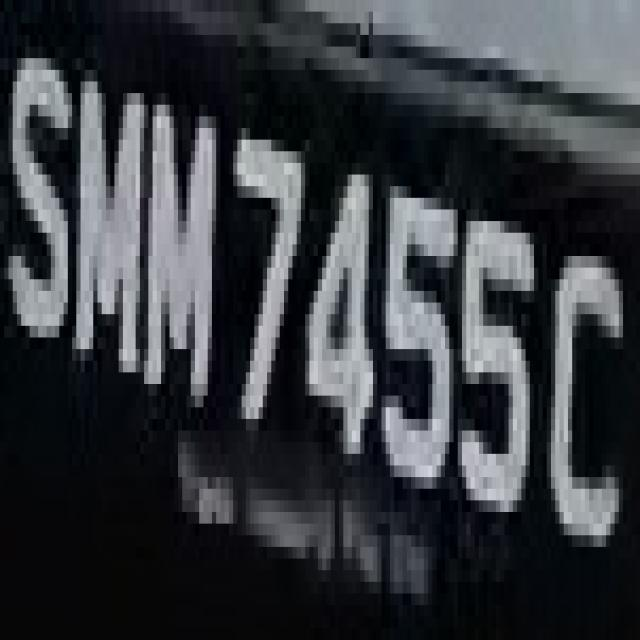4: (305, 105, 382, 465)
5: (382, 117, 466, 500), (453, 163, 530, 547)
7: (220, 82, 310, 466)
C: (551, 198, 627, 582)
M: (68, 47, 140, 396), (148, 70, 216, 419)
S: (4, 35, 72, 372)
